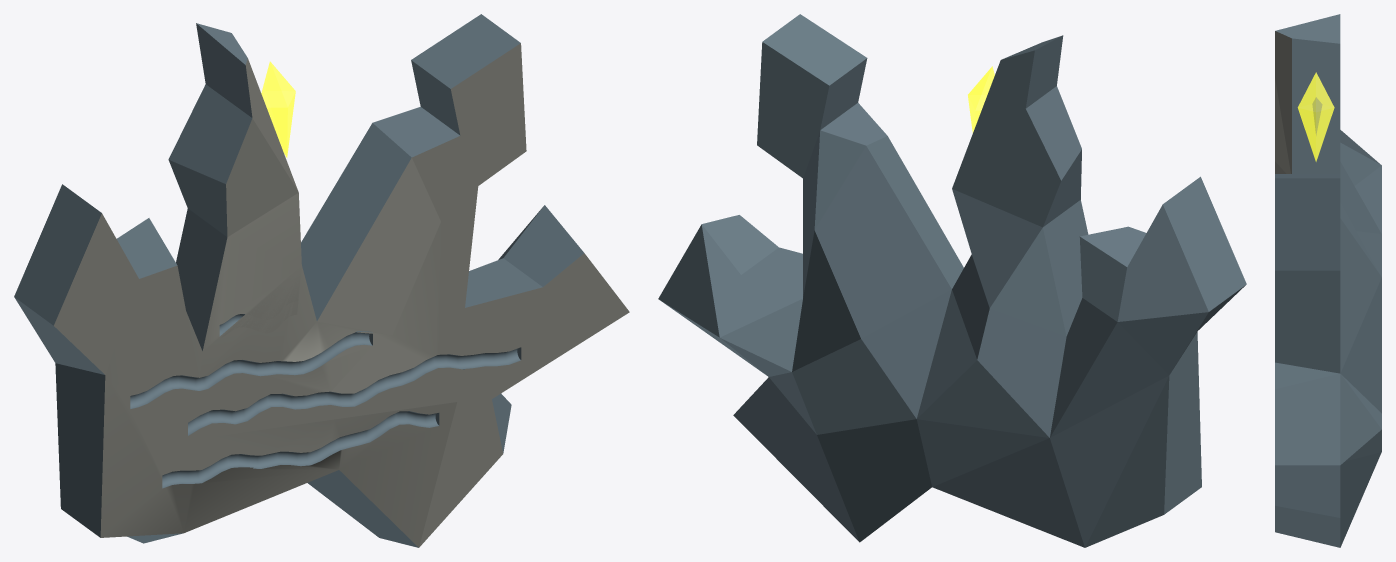
The model's file is Artefact6.fbx.
3 views of the same model, side by side, from view 1: azimuth 30°, elevation 25°; view 2: azimuth 150°, elevation 25°; view 3: azimuth 270°, elevation 25° (orthographic). The views are drawn at different scales.
Parts seen in each view (by area): view 1: polySurface2, pCone2; view 2: polySurface2, pCone2; view 3: polySurface2, pCone2.
Part boxes in pixels (x1,y1,x2,y2): polySurface2: (14,14,629,547); pCone2: (261,61,295,157); polySurface2: (658,14,1246,547); pCone2: (968,66,994,133); polySurface2: (1275,14,1381,547); pCone2: (1297,72,1334,161).
Size of the model in its own units: 11.21 by 10.4 by 2.19.
